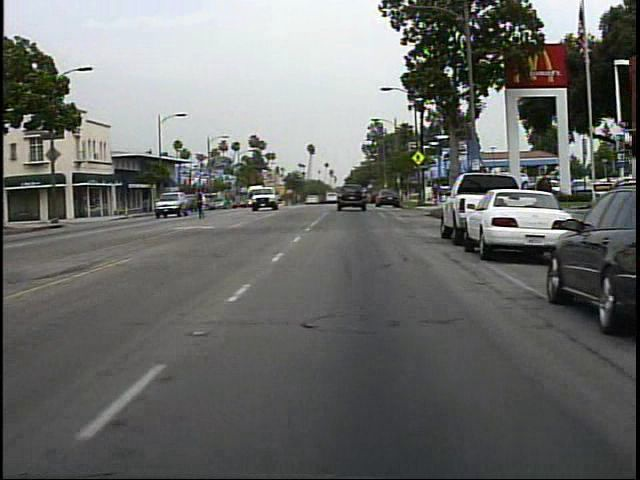person: (530, 169, 557, 226), (191, 184, 211, 223)
